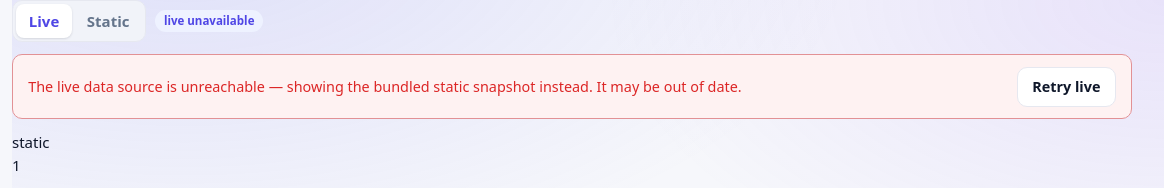
DataSourceProvider (dual mode) › retries live from the fallback notice
This screenshot has width=1164, height=188.
Expected: the text "unreachable" is shown, [28,77,742,96]
Click the button "Retry live".
click(1066, 87)  # box [1017,67,1116,107]
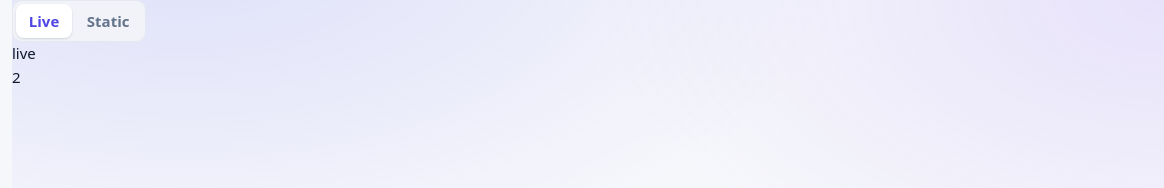
Expected: the text with test id "count" reads "2", [12,67,21,87]
Expected: the text with test id "mode" reads "live", [12,43,36,63]
Expected: the text "unreachable" is gone
